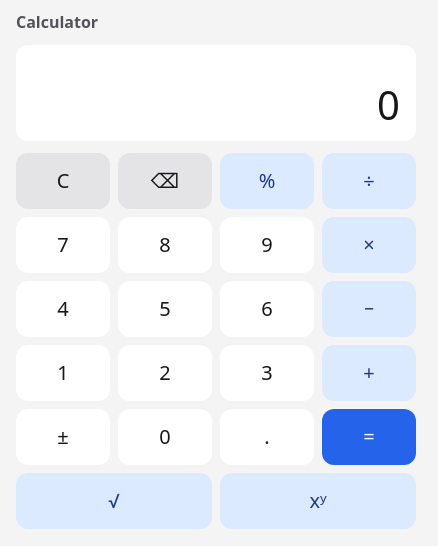
App › sends 2 + 3 = as one request and shows the result
Click the button "2". click: (165, 373)
box: [118, 345, 212, 401]
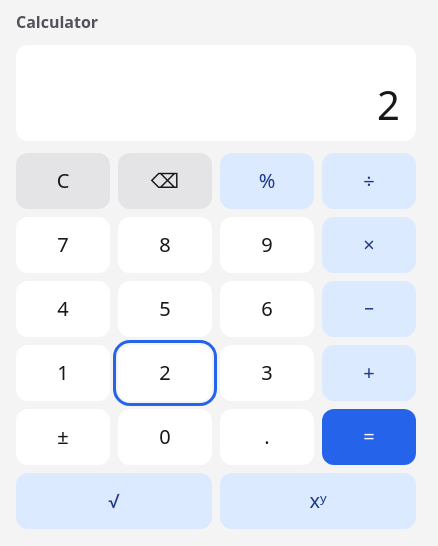
Click the button named "add". click: (369, 373)
box: [322, 345, 416, 401]
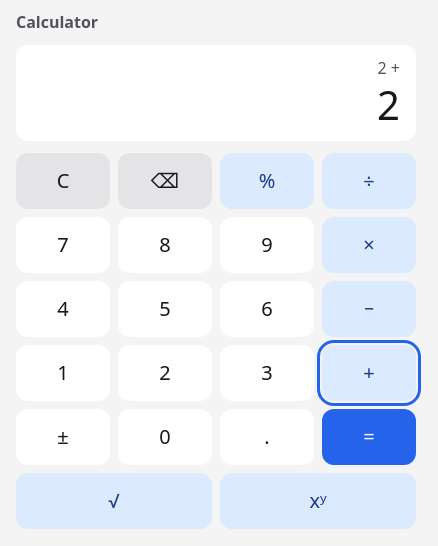
Click the button "3". click: (267, 373)
box: [220, 345, 314, 401]
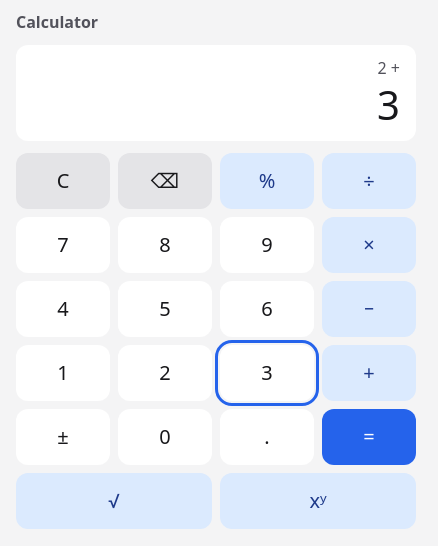
Click the button named "equals". click: (369, 437)
box: [322, 409, 416, 465]
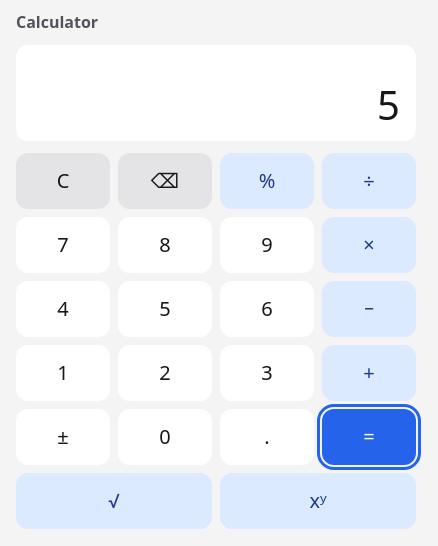
Expected: the element with class "display__secondary" is empty, [32, 57, 400, 81]
Now the text with class "display__main" reads "5", box [377, 77, 400, 132]
